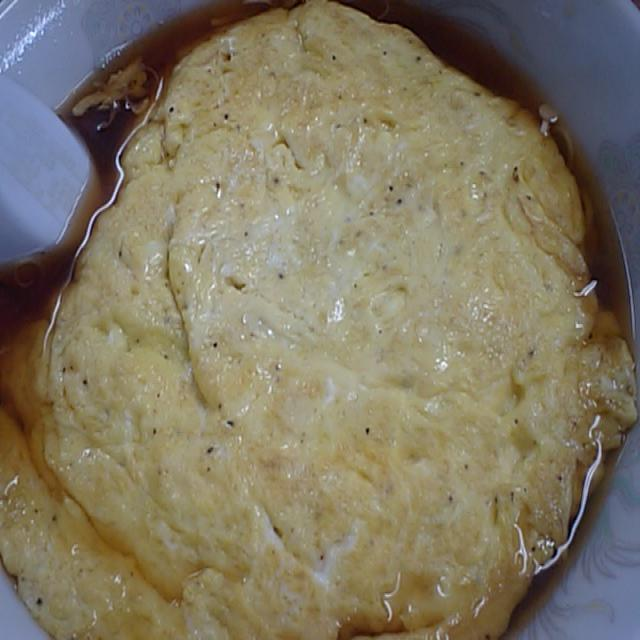面条主食: (10, 0, 638, 640)
